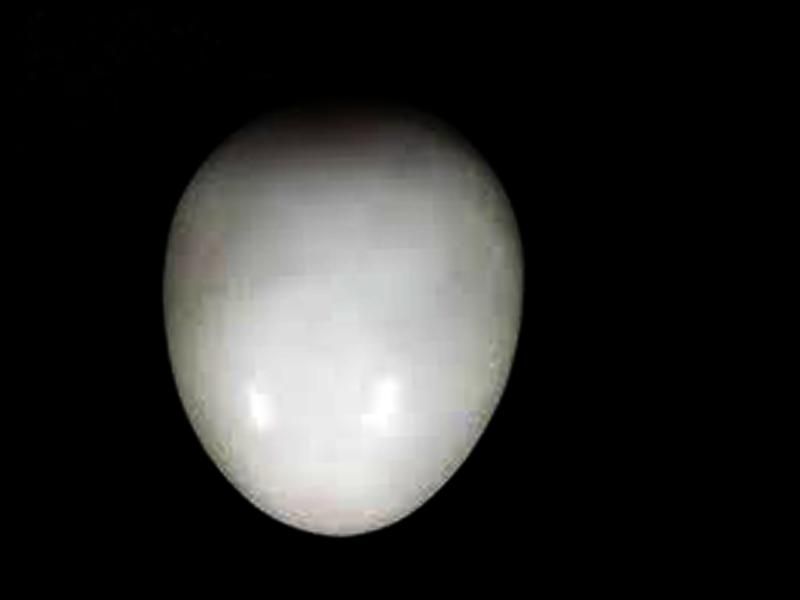Eggs: (158, 84, 526, 539)
